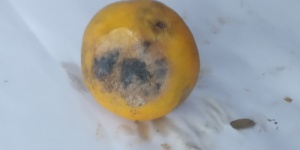BAD: (75, 1, 201, 123)
